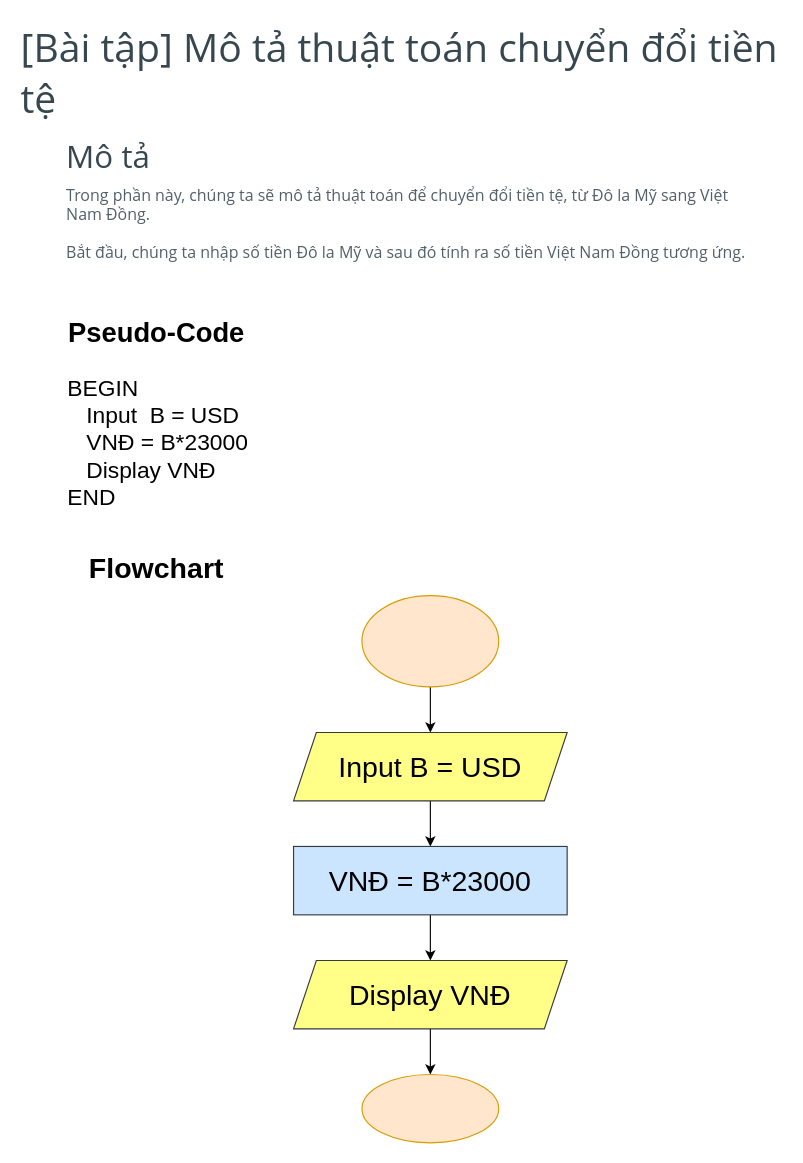
Image size: 803x1163. Some labels were removed from this diagram. Each missing label, with the box of its shape:
BEGIN: (361, 595, 499, 687)
END: (361, 1073, 499, 1143)
